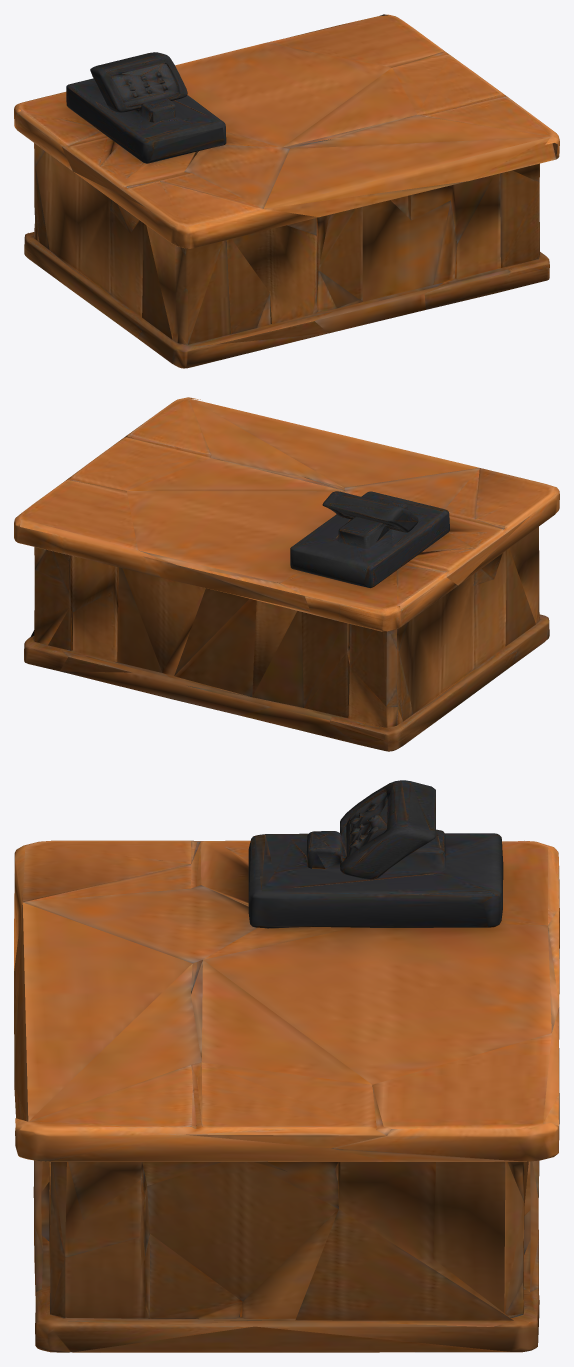
Rendered from counter.gltf.
3 views of the same model, one above another, from view 1: azimuth 30°, elevation 25°; view 2: azimuth 150°, elevation 25°; view 3: azimuth 270°, elevation 25° (orthographic). The views are drawn at different scales.
Visible parts, largest first — view 1: counter; view 2: counter; view 3: counter.
Part boxes in pixels (x1,y1,x2,y2): counter: [14, 14, 559, 368]; counter: [14, 397, 559, 751]; counter: [14, 780, 559, 1352].
Size of the model in its own units: 1.95 by 0.9975 by 1.54.
Materials: 1 (1 with a texture image).
